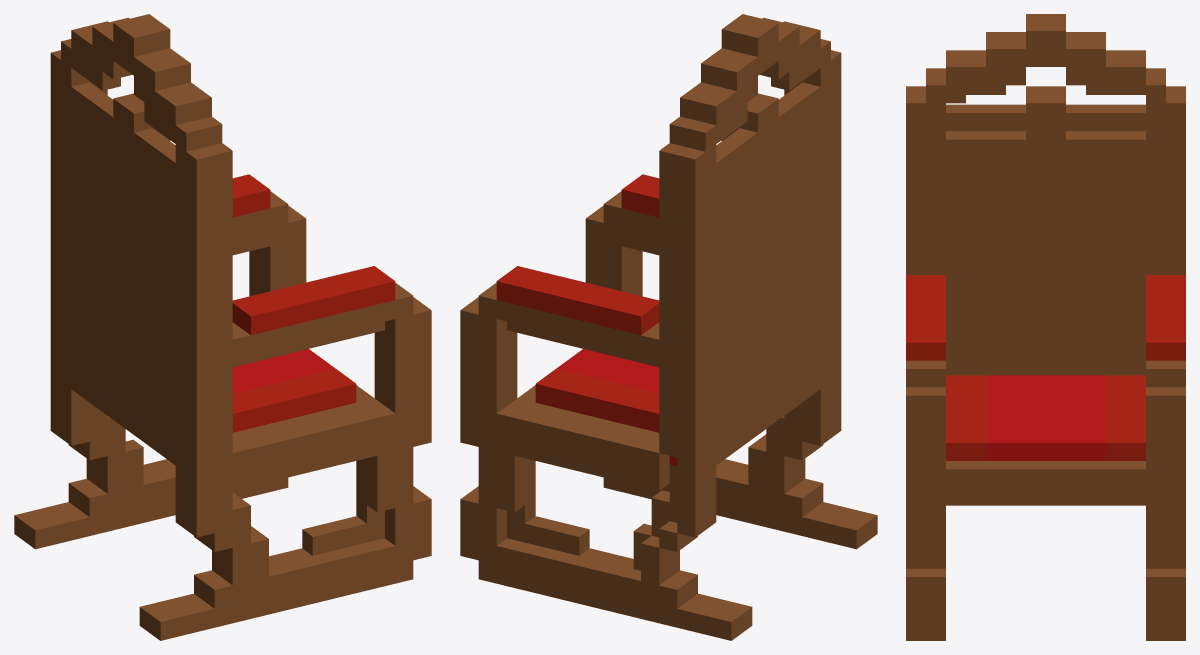
The model's file is Reschair_4.obj.
3 renders of one model, left to right at view 1: azimuth 30°, elevation 25°; view 2: azimuth 150°, elevation 25°; view 3: azimuth 270°, elevation 25°, orthographic. The views are drawn at different scales.
Bounding box in the file's own units: 1.5 × 2.9 × 1.4.
Materials: 1 (1 with a texture image).
